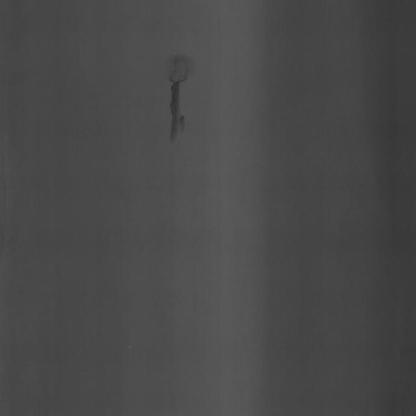water_spot: (162, 44, 203, 146)
